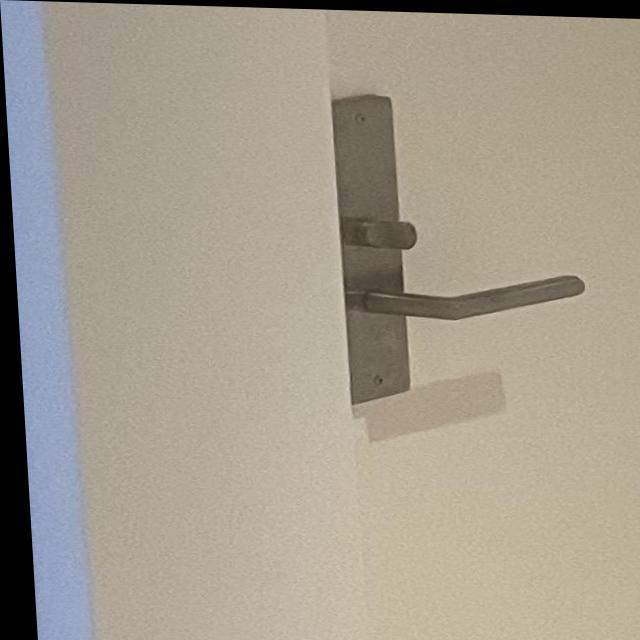door_handle: (333, 247, 597, 339)
